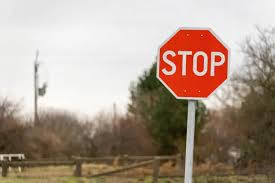stop sign: (157, 29, 228, 100)
